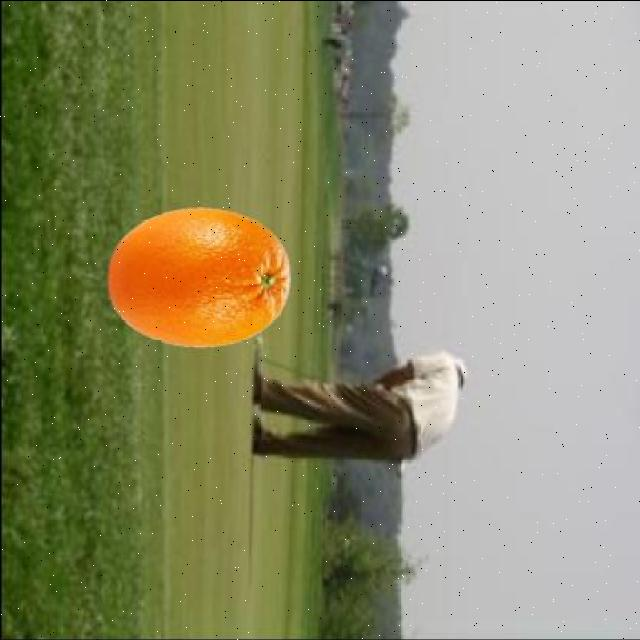Orange: (105, 206, 292, 349)
